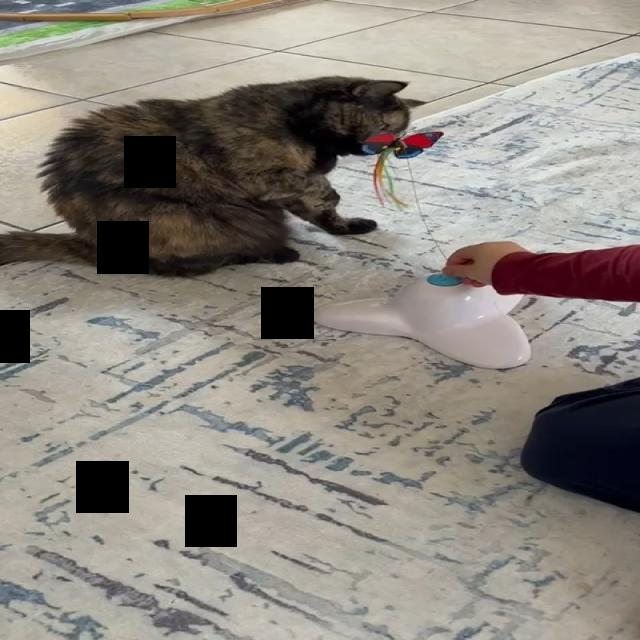authorized: (0, 74, 427, 278)
